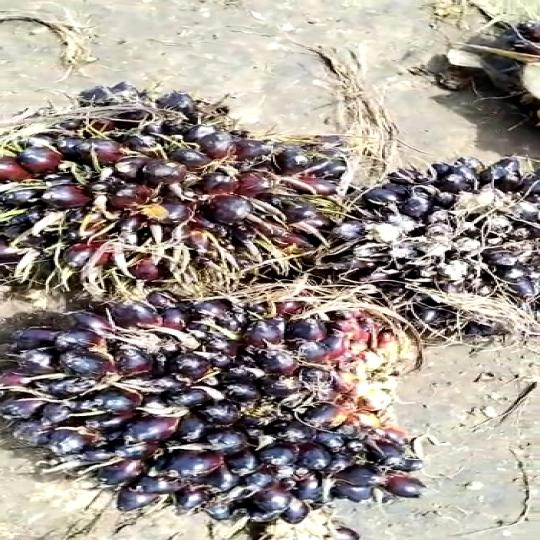mentah: (0, 280, 442, 513), (0, 62, 360, 292), (344, 138, 540, 355)
